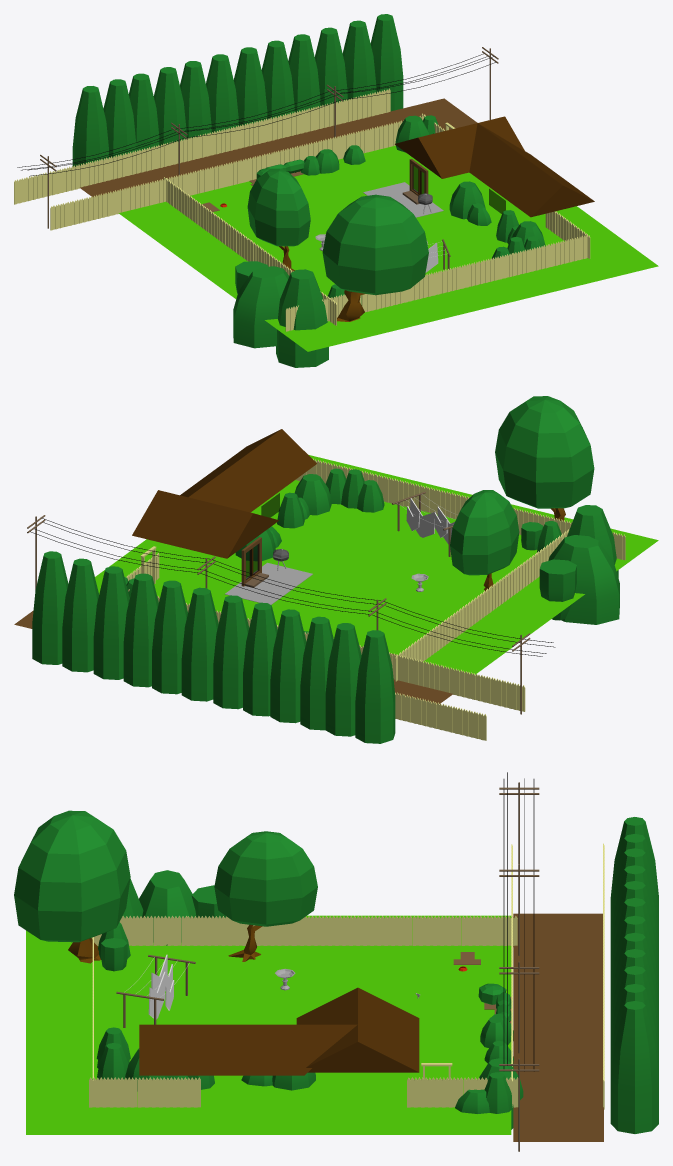
The model's file is Set_01_cmtest_02.fbx.
3 renders of one model, top to bottom at view 1: azimuth 30°, elevation 25°; view 2: azimuth 150°, elevation 25°; view 3: azimuth 270°, elevation 25°, orthographic. The views are drawn at different scales.
Visible parts, largest first — view 1: pPlane1, pSphere5, pCube50, pPlane2, pSphere4, pCylinder92, pCylinder91, pCube49, pCylinder14, pCylinder9, pCylinder10, pCylinder6 (+30 smaller); view 2: pPlane1, pSphere5, pCube49, pCube50, pSphere4, pCylinder92, pCylinder14, pCylinder6, pCylinder10, pCylinder9, pCylinder11, pCylinder7 (+26 smaller); view 3: pPlane1, pPlane2, pSphere5, pCube50, pSphere4, pCube49, pCylinder9, pCube79, pCube40, pCube41, pCube74, pCylinder92 (+20 smaller).
Part boxes in pixels (x1=…): pPlane1: x1=119, y1=145, x2=658, y2=351; pSphere5: x1=322, y1=194, x2=428, y2=295; pCube50: x1=469, y1=123, x2=594, y2=217; pPlane2: x1=80, y1=98, x2=477, y2=197; pSphere4: x1=247, y1=168, x2=310, y2=246; pCylinder92: x1=233, y1=266, x2=289, y2=348; pCylinder91: x1=276, y1=269, x2=328, y2=367; pCube49: x1=395, y1=116, x2=524, y2=178; pCylinder14: x1=72, y1=86, x2=108, y2=166; pCylinder9: x1=370, y1=14, x2=403, y2=111; pCylinder10: x1=342, y1=20, x2=376, y2=100; pCylinder6: x1=233, y1=47, x2=267, y2=126; pPlane1: x1=95, y1=455, x2=658, y2=674; pSphere5: x1=495, y1=396, x2=594, y2=508; pCube49: x1=132, y1=490, x2=279, y2=558; pCube50: x1=180, y1=429, x2=316, y2=512; pSphere4: x1=450, y1=490, x2=519, y2=575; pCylinder92: x1=548, y1=535, x2=619, y2=624; pCylinder14: x1=355, y1=630, x2=395, y2=743; pCylinder6: x1=181, y1=587, x2=218, y2=701; pCylinder10: x1=62, y1=558, x2=98, y2=672; pCylinder9: x1=32, y1=551, x2=68, y2=664; pCylinder11: x1=270, y1=609, x2=306, y2=723; pCylinder7: x1=93, y1=566, x2=129, y2=679; pPlane1: x1=26, y1=915, x2=511, y2=1134; pPlane2: x1=513, y1=913, x2=603, y2=1141; pSphere5: x1=14, y1=810, x2=130, y2=942; pCube50: x1=139, y1=1024, x2=357, y2=1075; pSphere4: x1=214, y1=831, x2=317, y2=926; pCube49: x1=296, y1=987, x2=419, y2=1072; pCylinder9: x1=610, y1=1001, x2=658, y2=1133; pCube79: x1=89, y1=1077, x2=200, y2=1107; pCube40: x1=405, y1=916, x2=517, y2=946; pCube41: x1=293, y1=915, x2=405, y2=945; pCube74: x1=186, y1=916, x2=298, y2=945; pCylinder92: x1=139, y1=870, x2=196, y2=945.
Size of the model in its own units: 7438 by 2389 by 6929.
